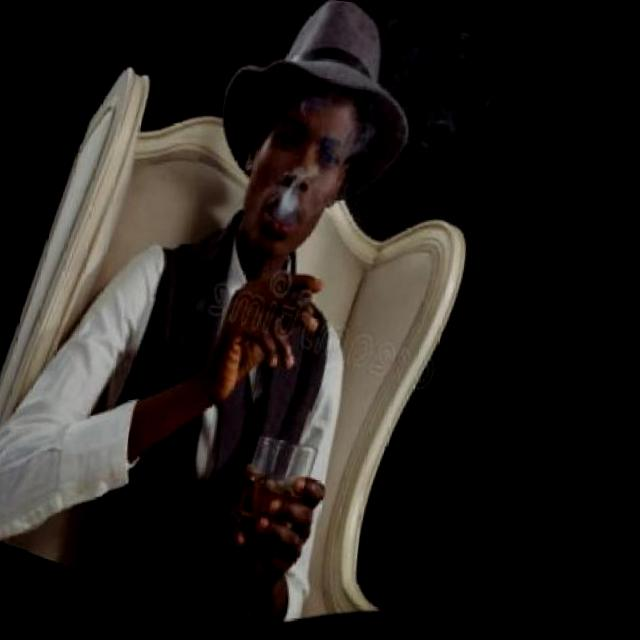cigarette: (277, 248, 302, 280)
